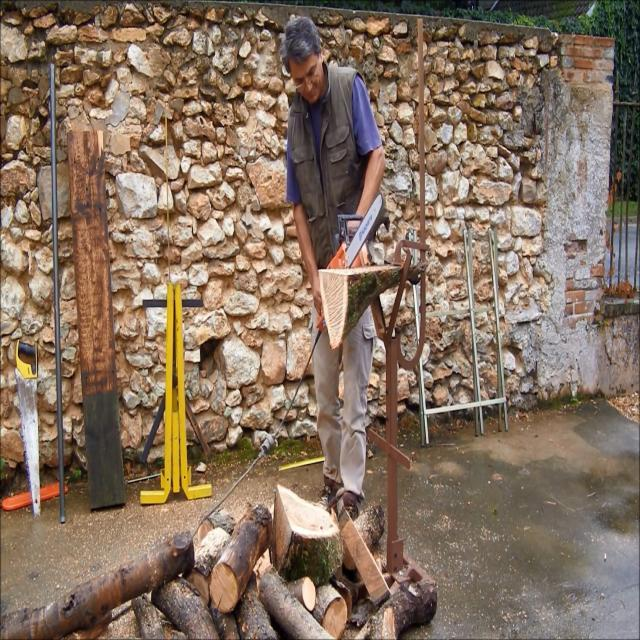Chainsaw: (305, 184, 397, 340)
